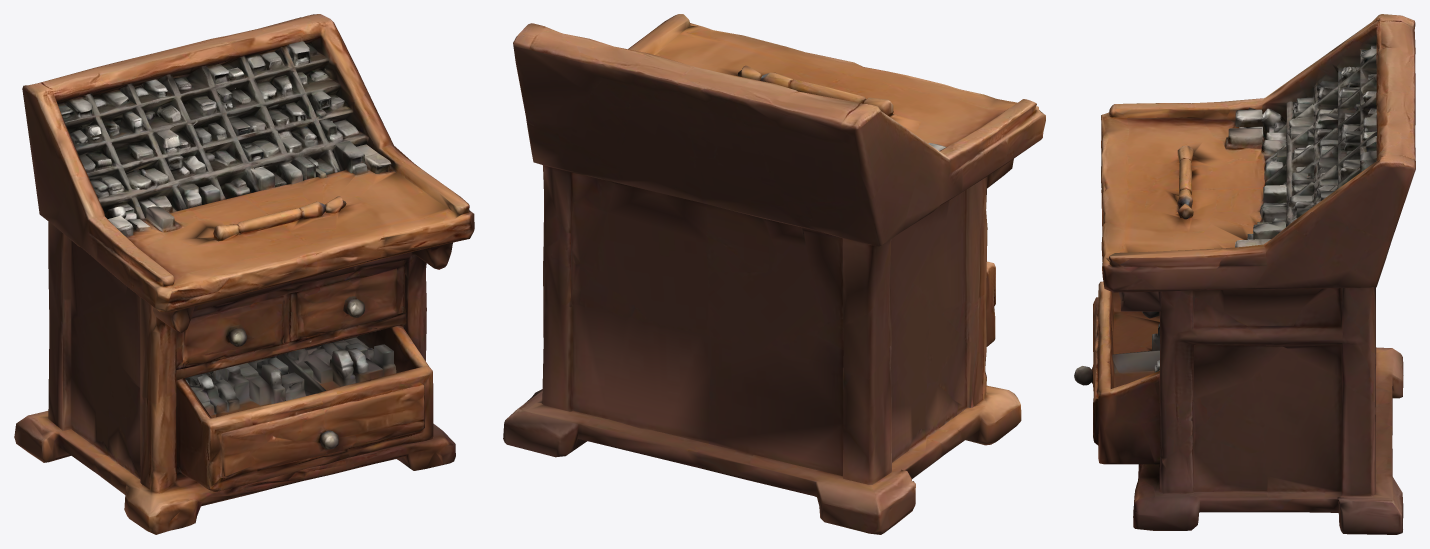
File: typecase.glb
3 renders of one model, left to right at view 1: azimuth 30°, elevation 25°; view 2: azimuth 150°, elevation 25°; view 3: azimuth 270°, elevation 25°, orthographic. The views are drawn at different scales.
Visible parts, largest first — view 1: tripo_node_453de628-7f11-4a75-86e9-64630f0b0645; view 2: tripo_node_453de628-7f11-4a75-86e9-64630f0b0645; view 3: tripo_node_453de628-7f11-4a75-86e9-64630f0b0645.
Boxes of the visible parts, x1,y1,x2,y2 form: tripo_node_453de628-7f11-4a75-86e9-64630f0b0645: [14, 14, 474, 534]; tripo_node_453de628-7f11-4a75-86e9-64630f0b0645: [503, 14, 1045, 534]; tripo_node_453de628-7f11-4a75-86e9-64630f0b0645: [1074, 14, 1415, 534].
Size of the model in its own units: 0.9336 by 0.9781 by 0.8273.
1 material, 1 textured.
